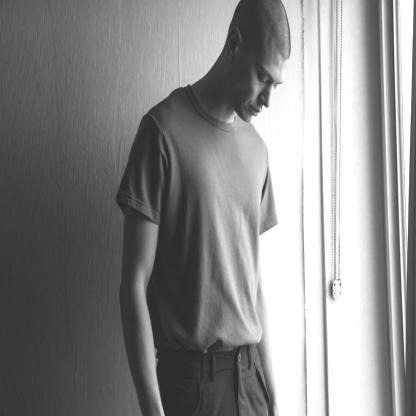dress: (119, 85, 281, 350)
